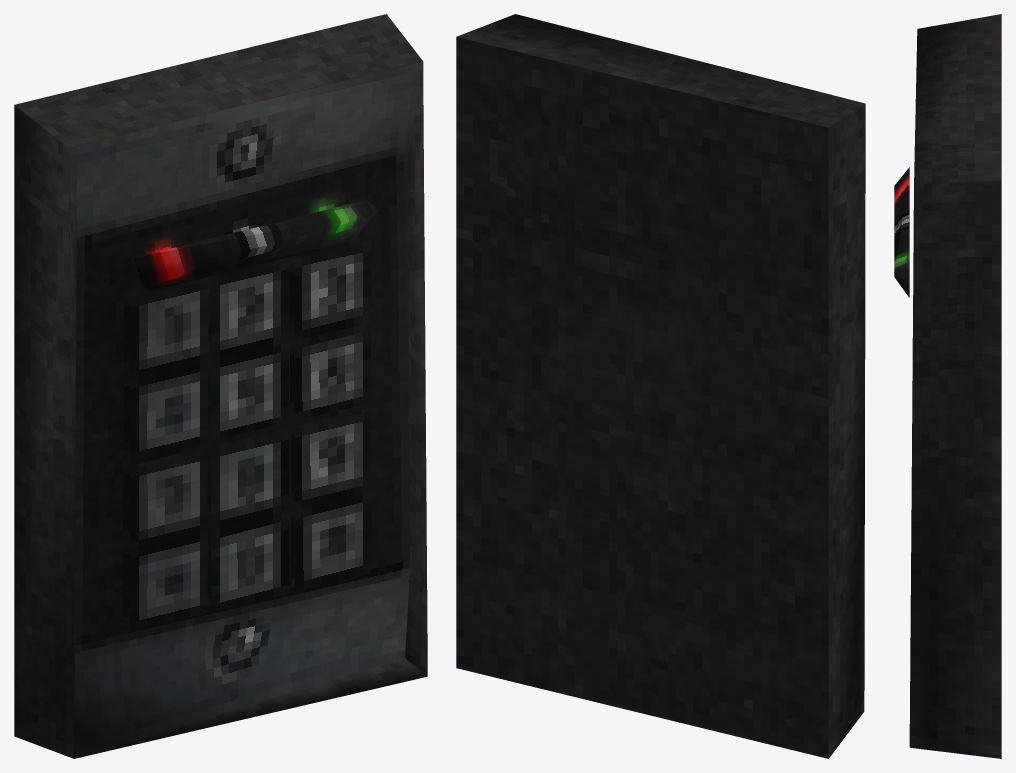
Rendered from keypad.glb.
The picture shows the model from 3 angles, left to right: view 1: azimuth 30°, elevation 25°; view 2: azimuth 150°, elevation 25°; view 3: azimuth 270°, elevation 25°; orthographic projection. The views are drawn at different scales.
Visible parts, largest first — view 1: keypad_2; view 2: keypad_2; view 3: keypad_2.
Boxes of the visible parts, x1,y1,x2,y2 form: keypad_2: (14, 14, 427, 758); keypad_2: (456, 14, 865, 758); keypad_2: (894, 14, 1001, 758).
Size of the model in its own units: 0.1284 by 0.208 by 0.035.
2 materials, 2 textured.
